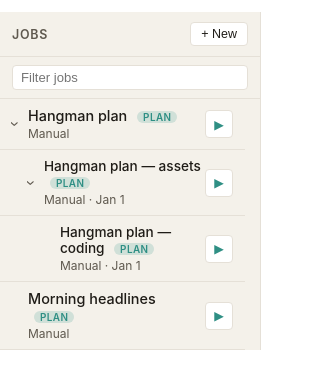
JobList › jobs a run started › filters by name and keeps the jobs above a match
This screenshot has width=320, height=367.
Type "coding" into the search field labelled "Filter jobs" at (130, 78), box [12, 65, 248, 90]
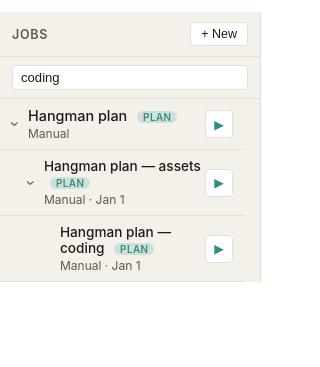
Expected: the text "Hangman plan — coding" is shown, [60, 224, 171, 256]
Result: the button "Morning headlines" is gone
